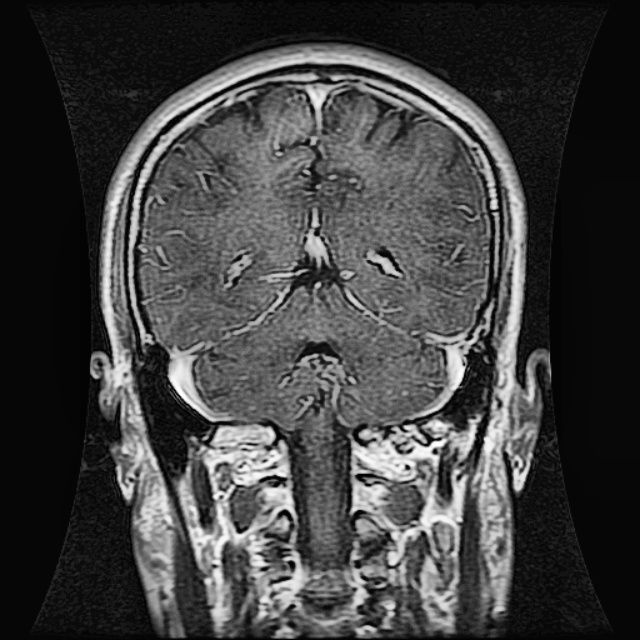Meningioma: (285, 340, 358, 418)
